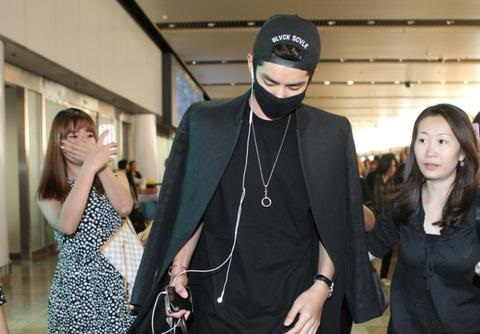face: (415, 115, 463, 179), (62, 120, 95, 164)
face_mask: (255, 62, 307, 116)
